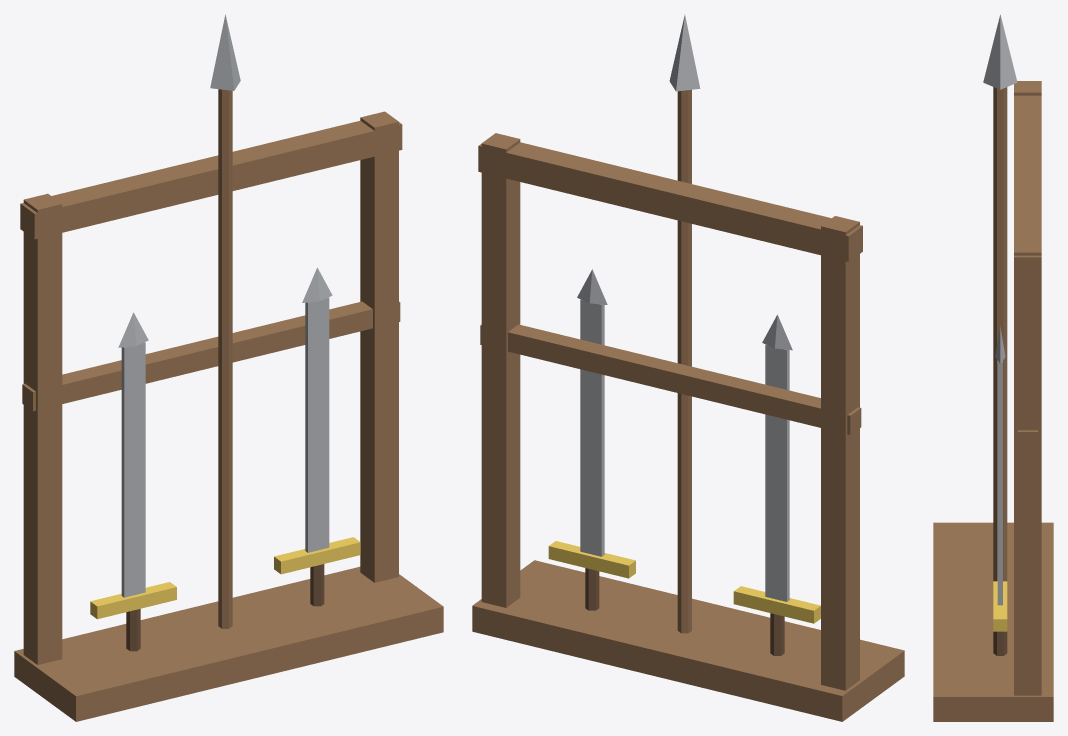
The model's file is SM_WeaponRack.glb.
The picture shows the model from 3 angles, left to right: view 1: azimuth 30°, elevation 25°; view 2: azimuth 150°, elevation 25°; view 3: azimuth 270°, elevation 25°; orthographic projection. The views are drawn at different scales.
Parts seen in each view (by area): view 1: SM_WeaponRack; view 2: SM_WeaponRack; view 3: SM_WeaponRack.
Boxes of the visible parts, x1,y1,x2,y2 form: SM_WeaponRack: (14, 14, 443, 721); SM_WeaponRack: (472, 14, 904, 721); SM_WeaponRack: (933, 14, 1053, 721).
Bounding box in the file's own units: 1.2 × 1.99 × 0.35.
